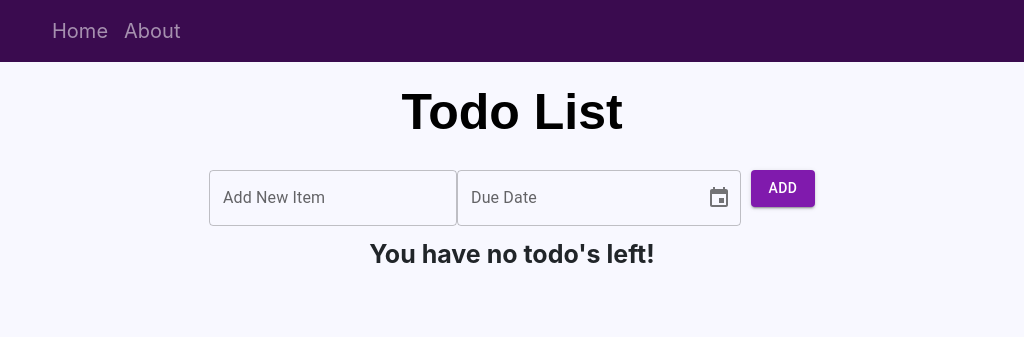
Test case: test that App component renders Task
This screenshot has width=1024, height=337.
In the field labelled "Add New Item": (333, 198) [209,170,457,226], type "History Test"
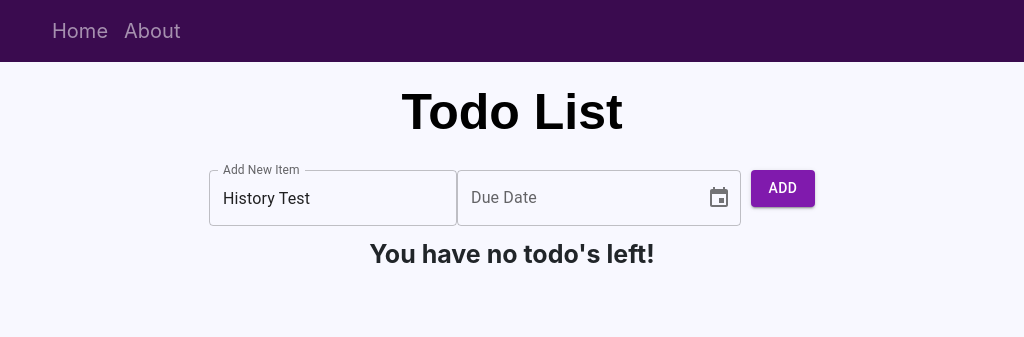
In the field with placeholder "MM/DD/YYYY": (574, 198) [457,170,691,226], type "5/30/2023"
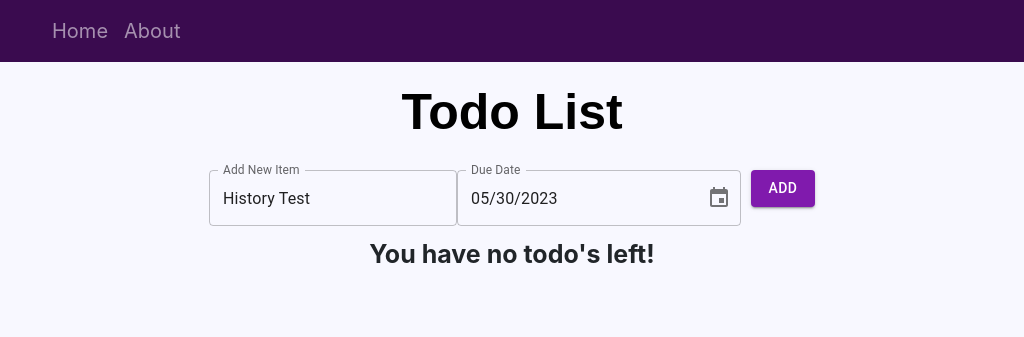
Click the button "Add": (783, 188) [751,170,815,206]
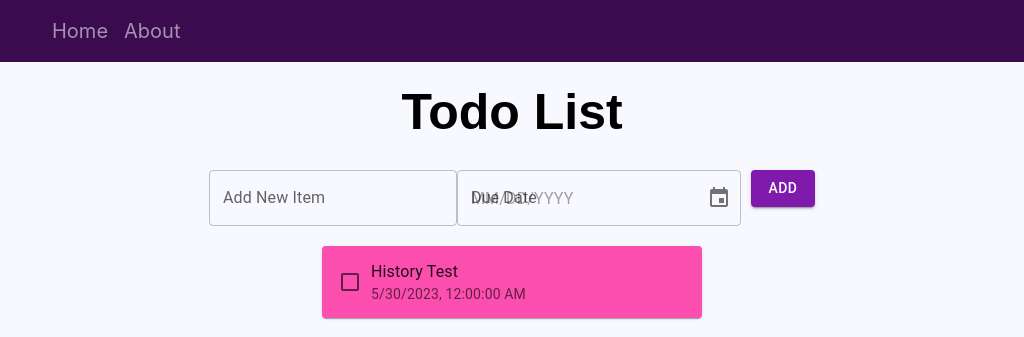
Expected: the text "History Test" is shown, [371,262,458,281]
